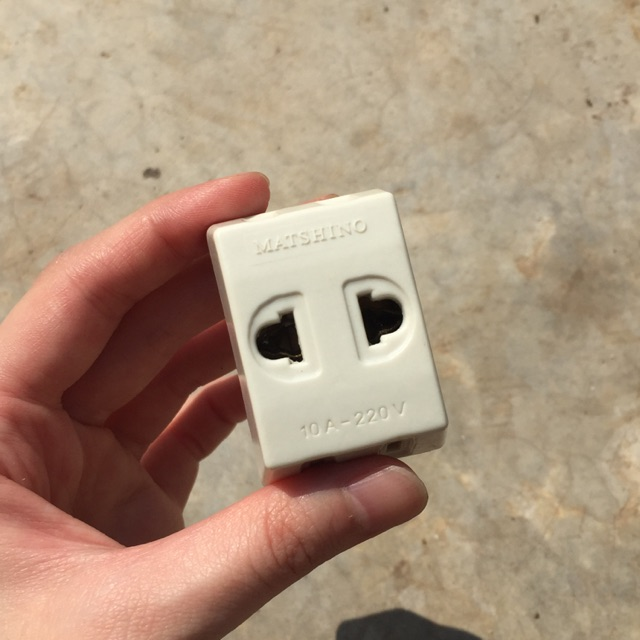Three_eye_plug: (196, 183, 455, 492)
